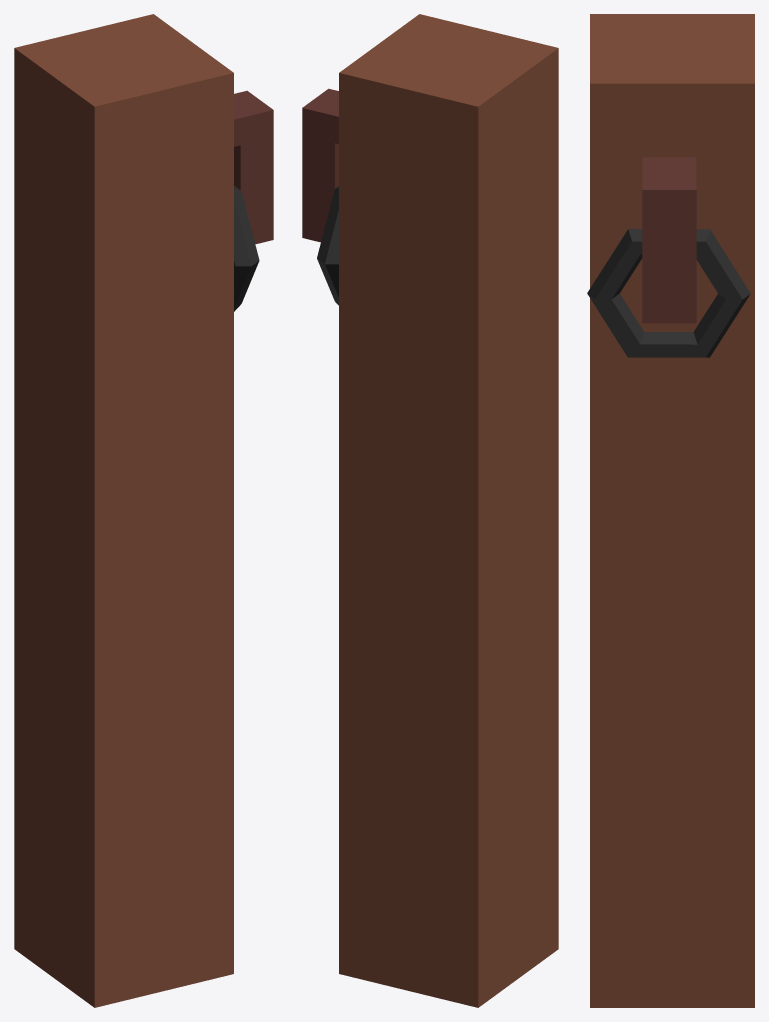
Rendered from landing_pillar.fbx.
3 renders of one model, left to right at view 1: azimuth 30°, elevation 25°; view 2: azimuth 150°, elevation 25°; view 3: azimuth 270°, elevation 25°, orthographic. The views are drawn at different scales.
Visible parts, largest first — view 1: pier railings.002; view 2: pier railings.002; view 3: pier railings.002.
Part boxes in pixels (x1,y1,x2,y2): pier railings.002: (14,14,273,1007); pier railings.002: (302,14,558,1007); pier railings.002: (587,14,754,1007).
Size of the model in its own units: 19.27 by 81.1 by 13.35.
